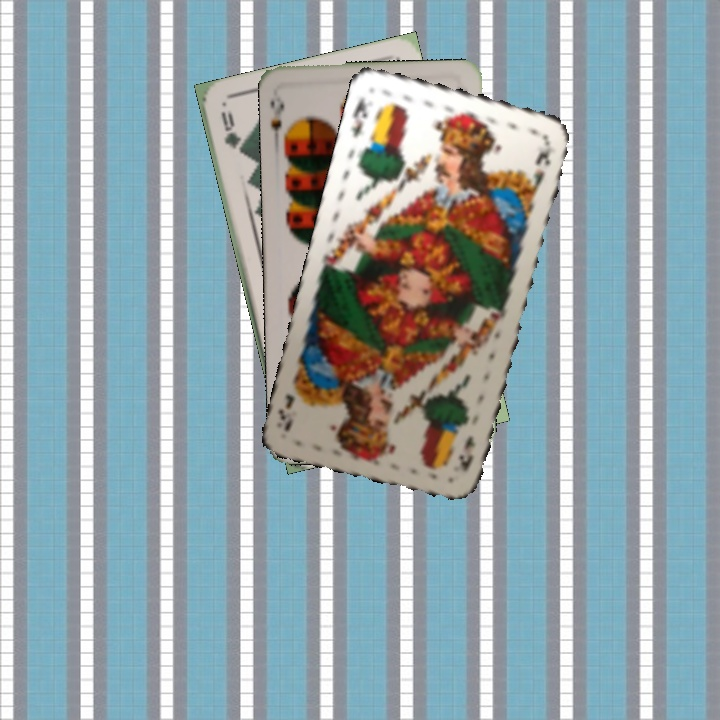EK: (347, 92, 370, 140), (454, 431, 478, 474)
G9: (217, 107, 246, 159)
S9: (266, 90, 294, 148)
